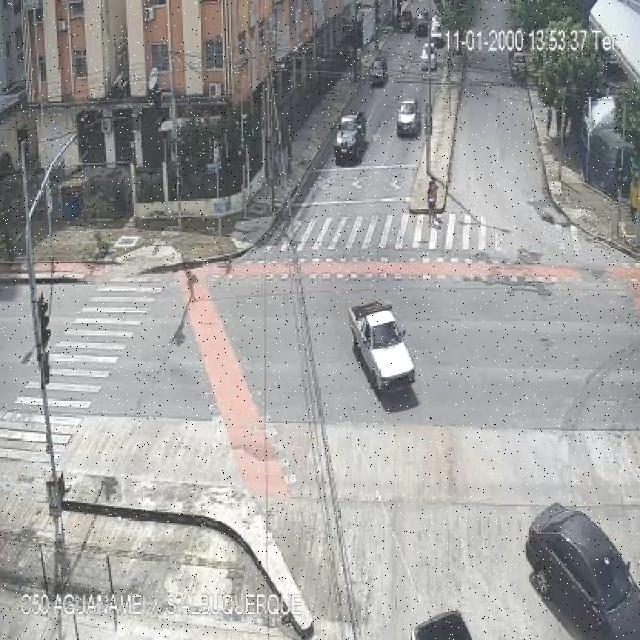Car: (525, 504, 638, 640), (334, 112, 368, 164), (396, 100, 420, 137), (338, 26, 361, 56), (368, 56, 388, 86), (510, 50, 528, 82), (419, 44, 438, 72), (429, 15, 444, 47), (415, 9, 430, 36), (398, 10, 414, 32), (432, 1, 447, 18)
Truck: (348, 300, 416, 392)
